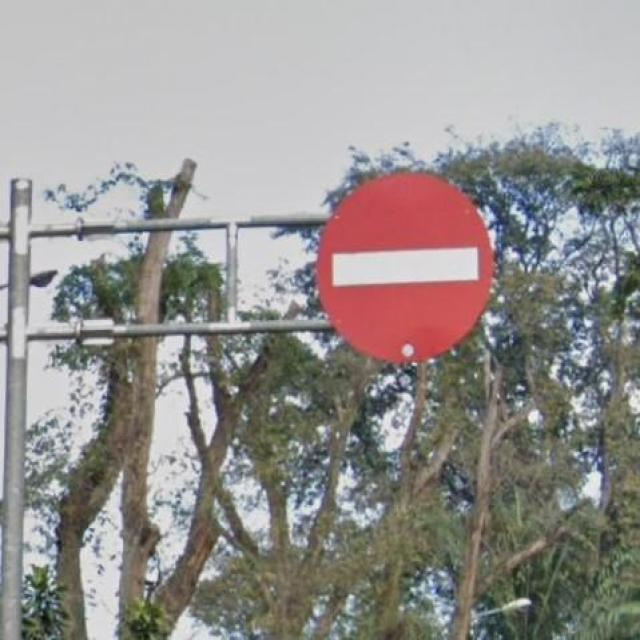traffic sign: (316, 174, 491, 365)
